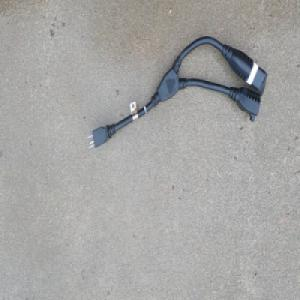Wire: (86, 35, 268, 152)
